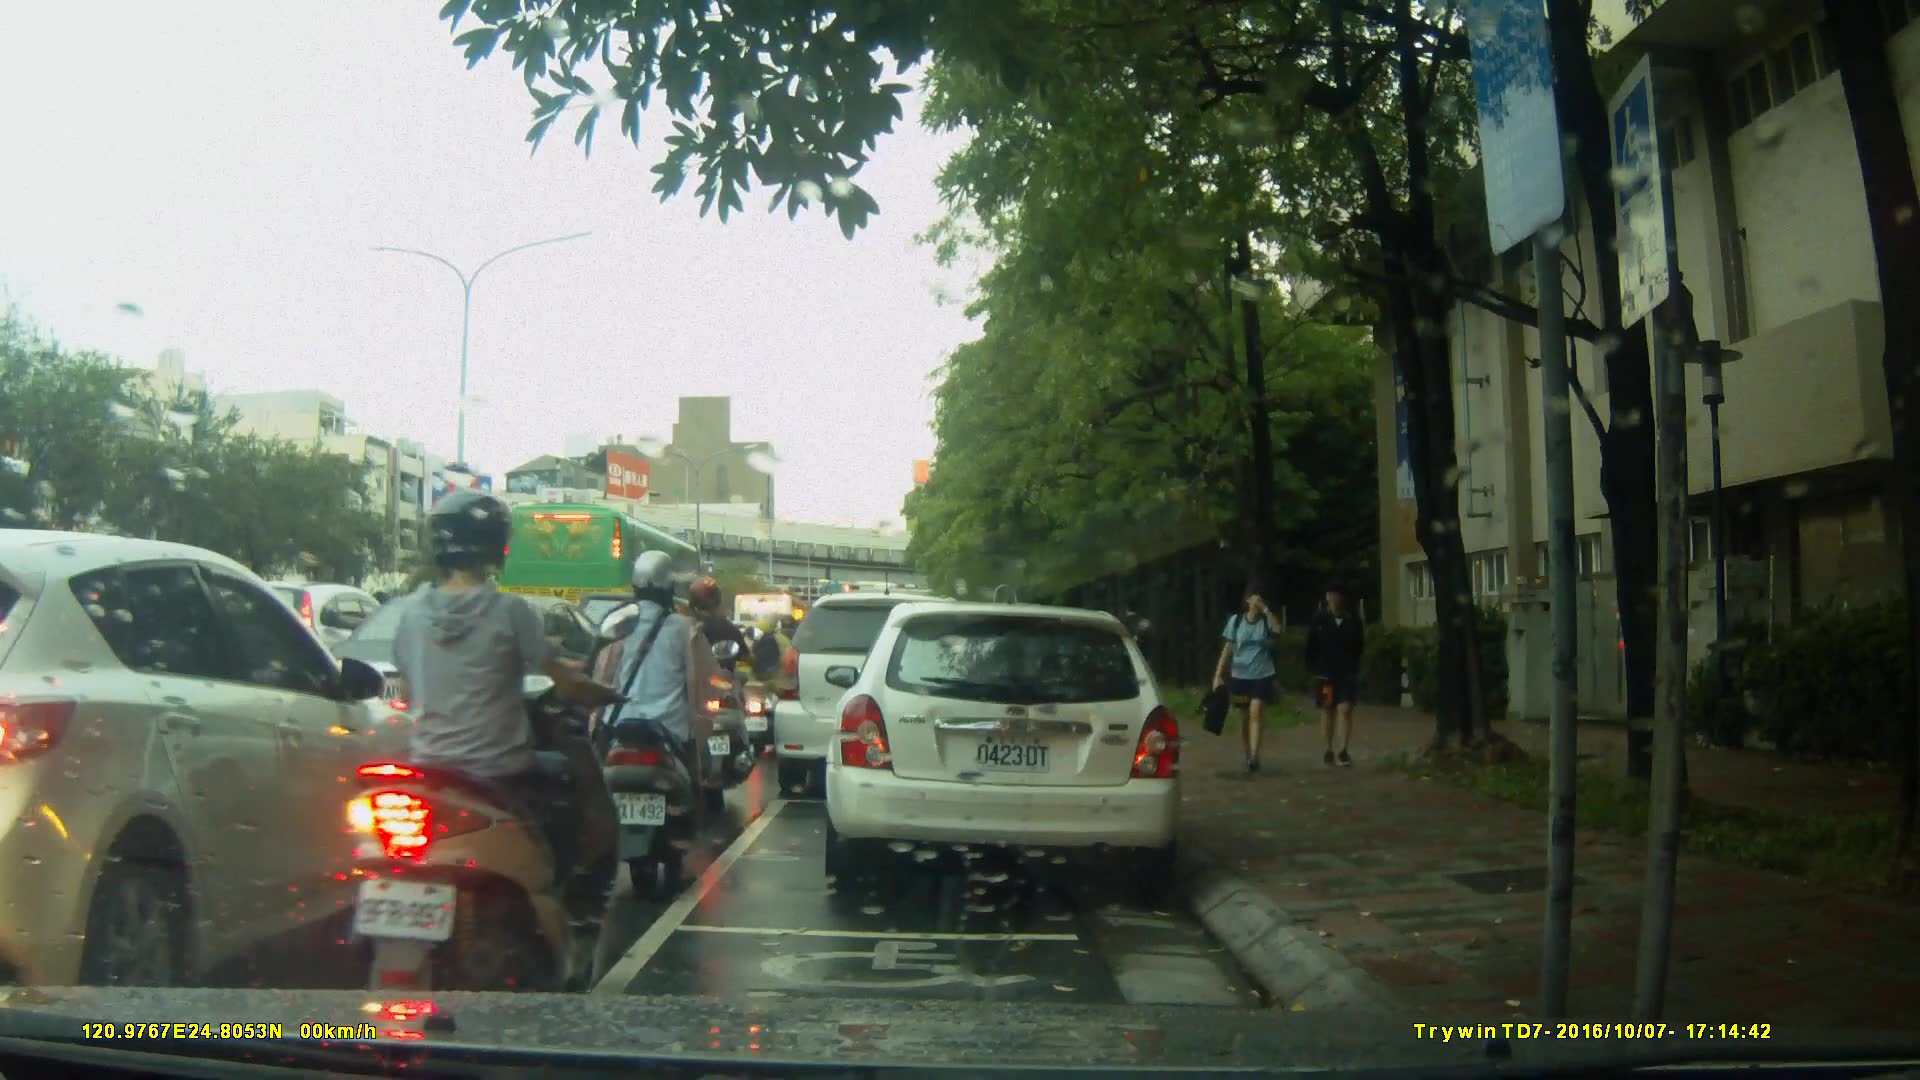pedestrian: (1197, 577, 1305, 776), (1307, 571, 1384, 772), (1123, 596, 1158, 695)
rider: (350, 488, 619, 1017), (588, 551, 721, 878), (670, 576, 758, 793), (740, 605, 804, 755), (767, 615, 815, 735)
vehicle: (1, 528, 447, 988), (831, 592, 1196, 897), (313, 590, 634, 805), (770, 591, 999, 802), (495, 500, 707, 636)
